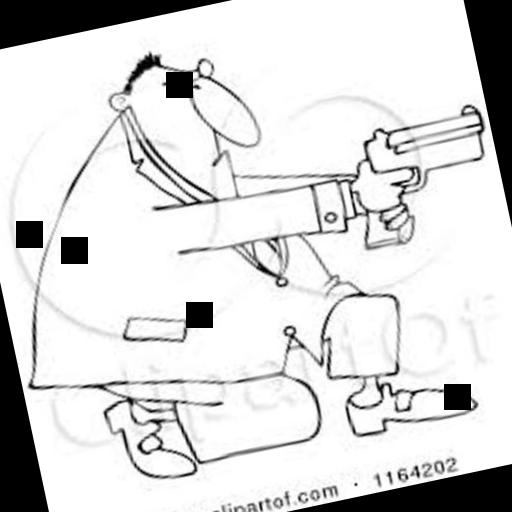Handgun: (330, 95, 504, 259)
